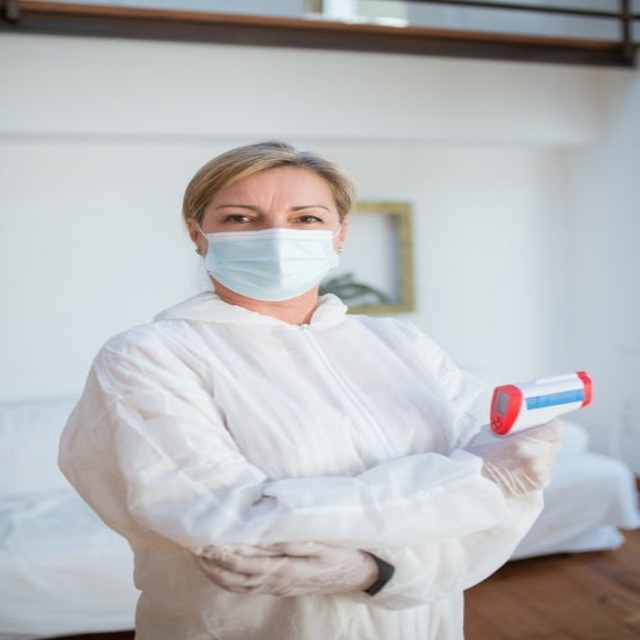Guantes: (195, 541, 382, 597), (467, 416, 565, 497)
Mascara: (197, 222, 341, 301)
Sin_gafas: (206, 196, 342, 232)
